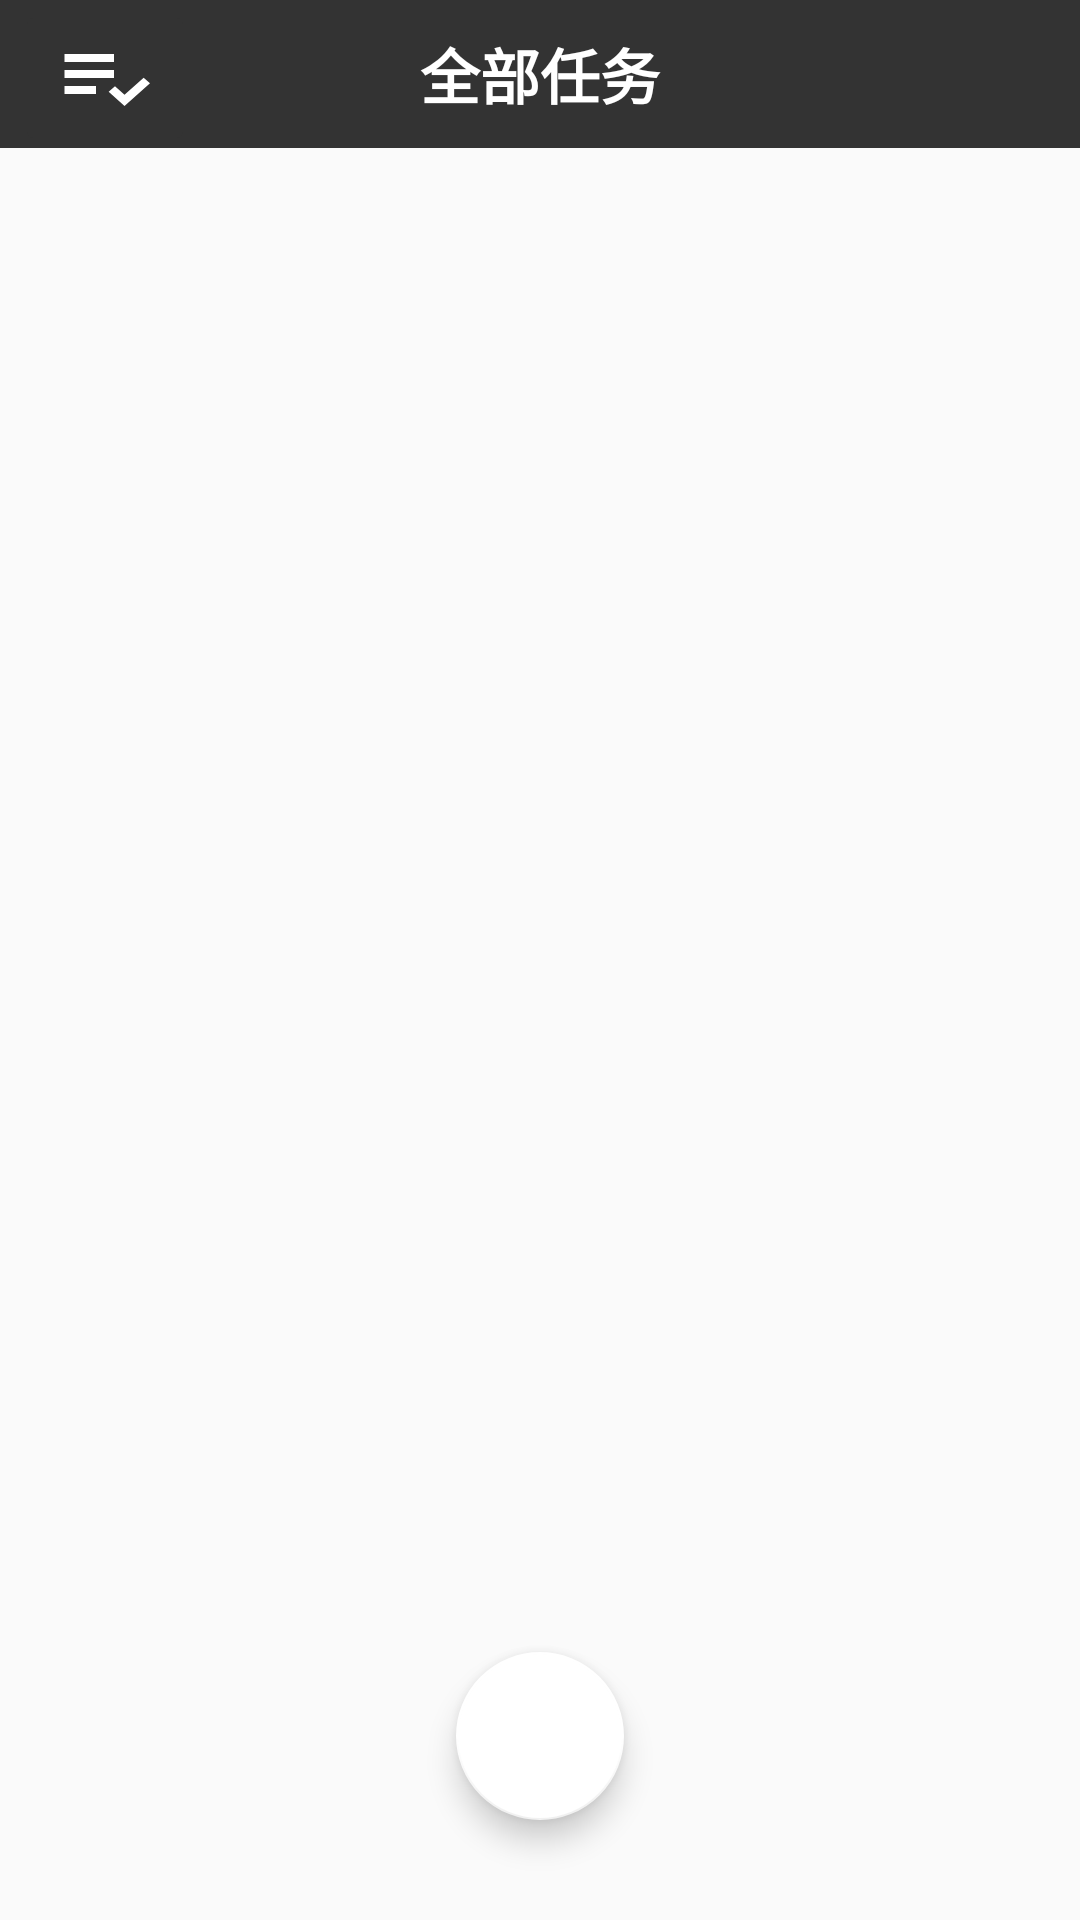

Screen size 1080 × 1920. Icon name, then its center in pixels as (x,y):
playlist add check: (105,78)
